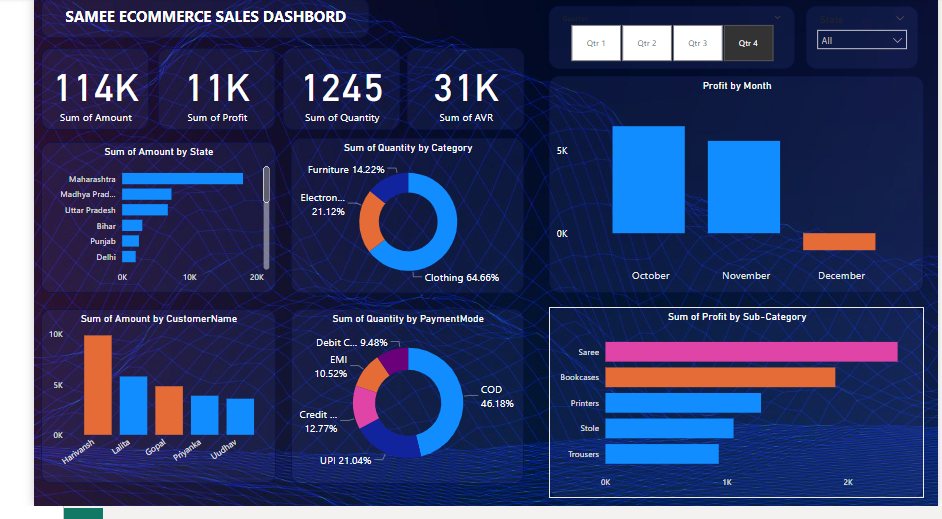

This screenshot's page, from the dashboard's own definition file:
{"tool":"powerbi","page":{"name":"Page 1","canvas":[1280,720],"ordinal":0},"visuals":[{"type":"textbox","box":[9.9,0,464.9,56.7],"z":0},{"type":"columnChart","title":"Profit by Month","fields":{"Y":["Details.Profit"],"Category":["Orders.Order Date.Variation.Date Hierarchy.Month"]},"box":[730.2,110.3,531.4,307.5],"z":1000},{"type":"barChart","fields":{"Category":["Details.Sub-Category"],"Y":["Details.Profit"]},"box":[730.2,437.8,531.4,270.7],"z":2000},{"type":"donutChart","fields":{"Y":["Details.Quantity"],"Category":["Details.Category"]},"box":[364.3,198.4,330.2,219.7],"z":3000},{"type":"donutChart","fields":{"Y":["Details.Quantity"],"Category":["Details.PaymentMode"]},"box":[364.3,440.8,330.2,248],"z":4000},{"type":"card","fields":{"Values":["Details.Amount"]},"box":[9.9,70.9,153.1,116.2],"z":5000},{"type":"card","fields":{"Values":["Details.Profit"]},"box":[175.7,70.9,165.8,116.2],"z":6000},{"type":"card","fields":{"Values":["Details.Quantity"]},"box":[352.9,70.9,165.8,116.2],"z":7000},{"type":"card","fields":{"Values":["Details.AVR"]},"box":[528.7,70.9,165.8,116.2],"z":8000},{"type":"columnChart","fields":{"Category":["Orders.CustomerName"],"Y":["Details.Amount"]},"box":[10,441.1,332.5,247.3],"z":9000},{"type":"barChart","fields":{"Category":["Orders.State"],"Y":["Details.Amount"]},"box":[10,203.9,332.5,213.9],"z":10000},{"type":"slicer","fields":{"Values":["Orders.Order Date.Variation.Date Hierarchy.Quarter"]},"box":[730.2,11.7,347.6,88.6],"z":11000},{"type":"slicer","fields":{"Values":["Orders.State"]},"box":[1094.5,11.7,158.7,88.6],"z":12000}]}

Visuals, with their boxes in screenshot pixels (x1, y1, x2, y2), scaled from the page's 1280x720 canvas onto the 942x519 screenshot:
textbox: [x1=7, y1=0, x2=349, y2=41]
"Profit by Month" columnChart: [x1=537, y1=80, x2=928, y2=301]
barChart - Details.Sub-Category x Details.Profit: [x1=537, y1=316, x2=928, y2=511]
donutChart - Details.Quantity x Details.Category: [x1=268, y1=143, x2=511, y2=301]
donutChart - Details.Quantity x Details.PaymentMode: [x1=268, y1=318, x2=511, y2=497]
card - Details.Amount: [x1=7, y1=51, x2=120, y2=135]
card - Details.Profit: [x1=129, y1=51, x2=251, y2=135]
card - Details.Quantity: [x1=260, y1=51, x2=382, y2=135]
card - Details.AVR: [x1=389, y1=51, x2=511, y2=135]
columnChart - Orders.CustomerName x Details.Amount: [x1=7, y1=318, x2=252, y2=496]
barChart - Orders.State x Details.Amount: [x1=7, y1=147, x2=252, y2=301]
slicer - Orders.Order Date.Variation.Date Hierarchy.Quarter: [x1=537, y1=8, x2=793, y2=72]
slicer - Orders.State: [x1=805, y1=8, x2=922, y2=72]
